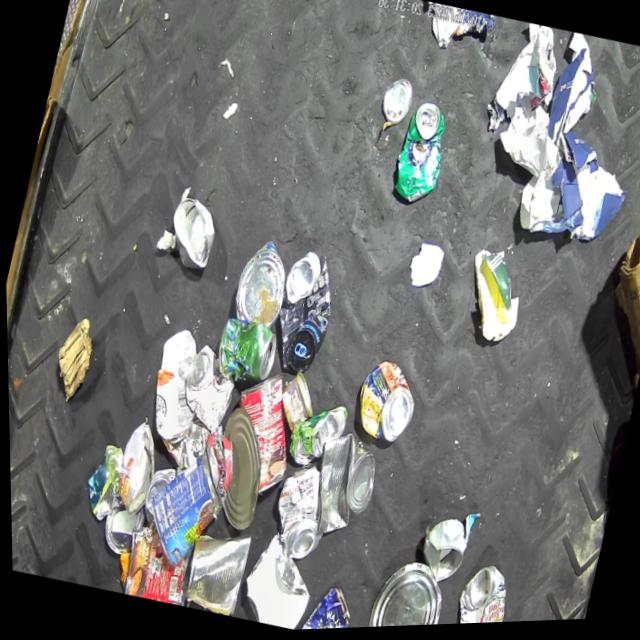can: (134, 441, 234, 579), (214, 368, 305, 502), (261, 247, 344, 380), (298, 428, 383, 550), (199, 407, 275, 535), (261, 461, 334, 567), (387, 100, 455, 211), (175, 523, 251, 620), (346, 357, 422, 451), (358, 553, 449, 630), (173, 342, 242, 439), (114, 525, 194, 608), (226, 236, 294, 331), (107, 419, 164, 520), (211, 316, 281, 392), (160, 190, 223, 273), (282, 398, 347, 475), (441, 561, 512, 627), (411, 519, 469, 592), (288, 578, 353, 632), (271, 370, 320, 438), (94, 499, 144, 561), (136, 463, 175, 529), (377, 77, 415, 130)
